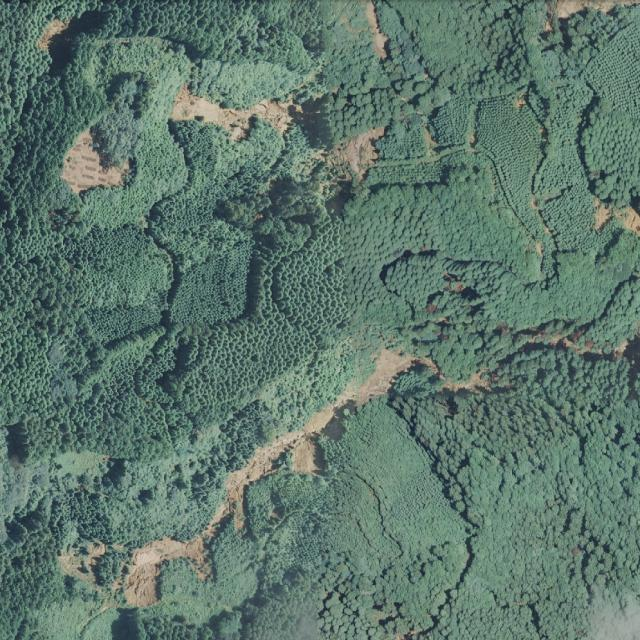landslide: (120, 349, 420, 608), (170, 85, 293, 140), (61, 130, 122, 193)
